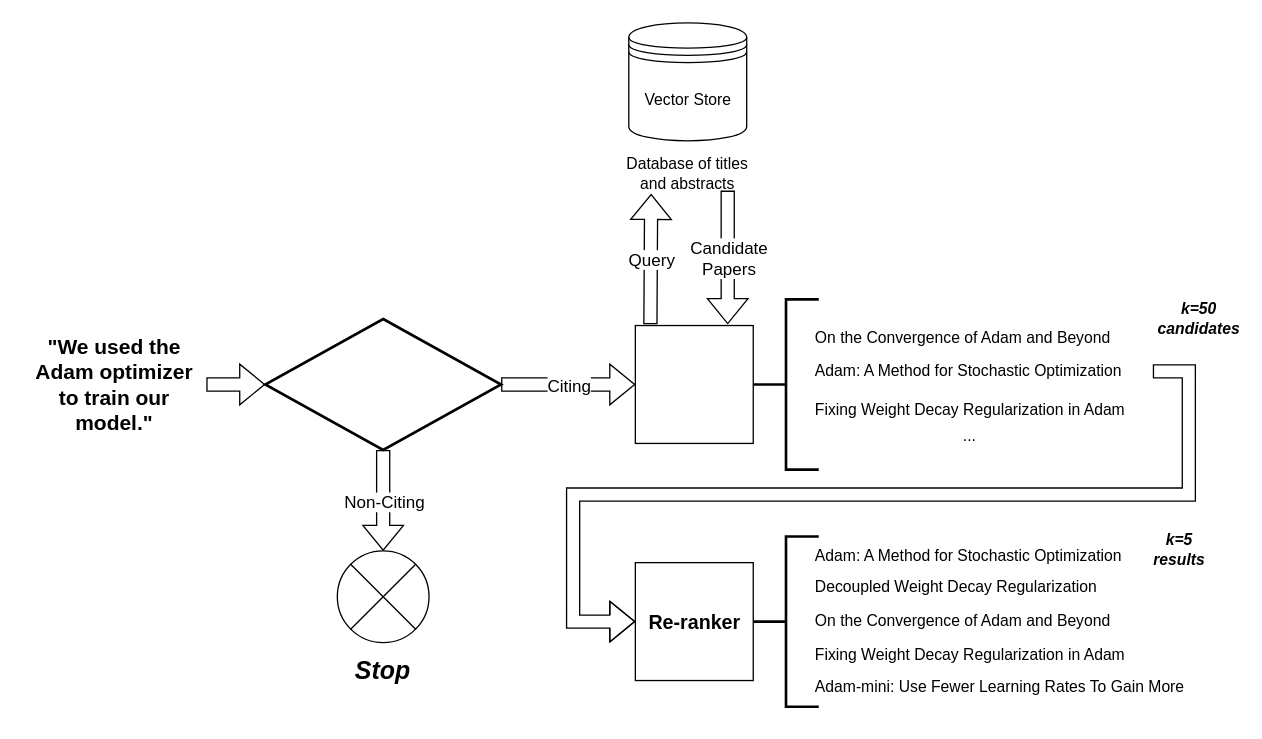
This 1262x739 diagram has some shape labels left out. The centre of each missing label's shape, as x and y in pixels:
"Citing Sentence Classifier" belongs at pixel 382 384.
"Retriever" belongs at pixel 693 383.
